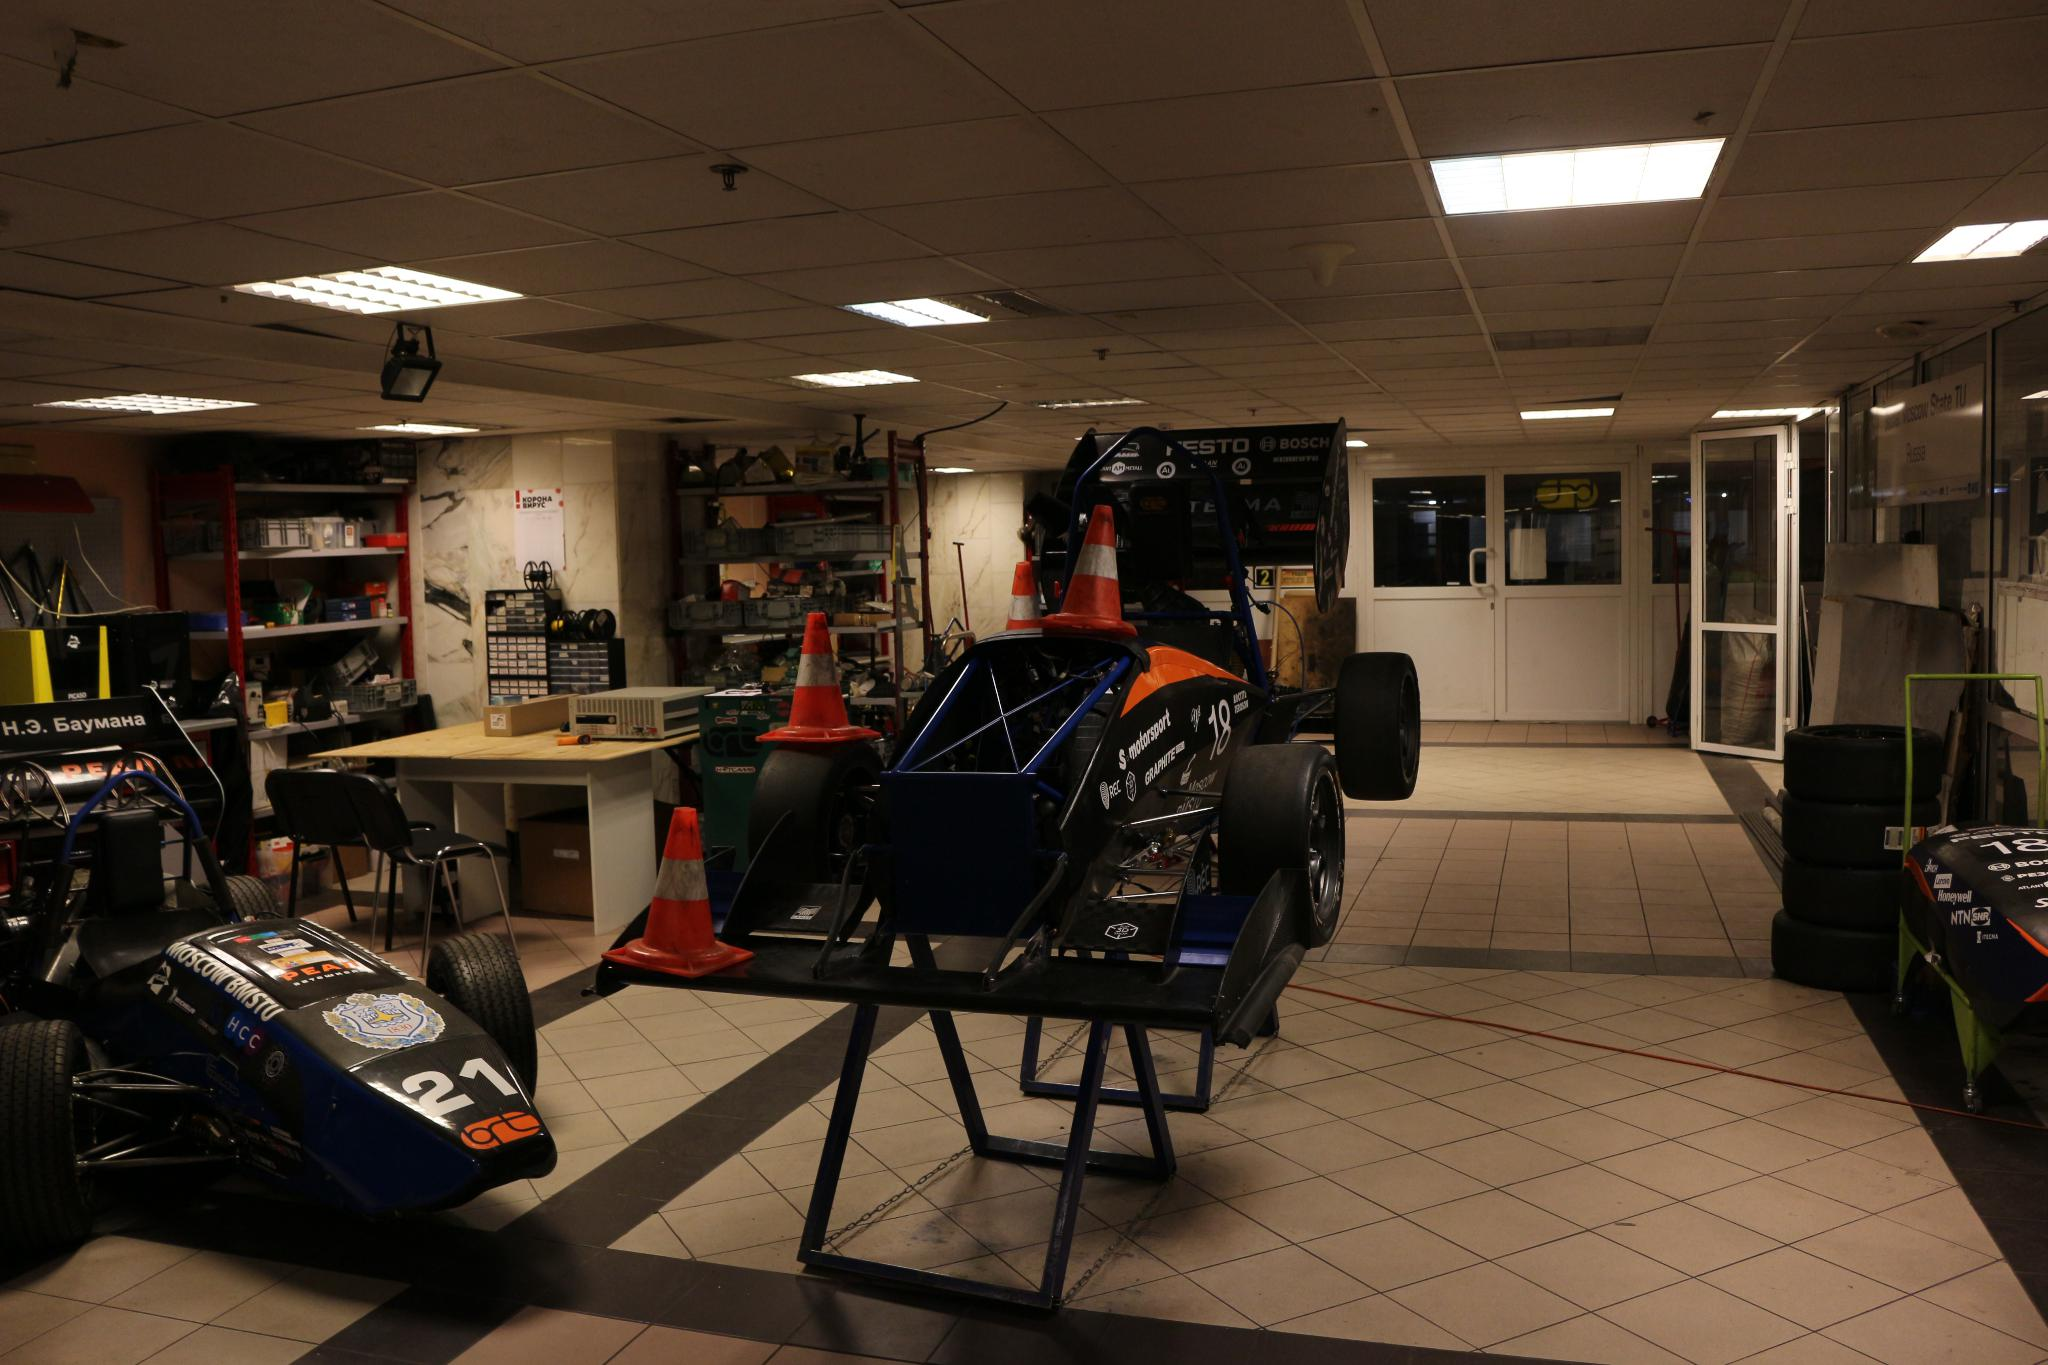Orange_Cone: (598, 803, 758, 980), (754, 603, 886, 743), (1037, 489, 1144, 646), (985, 562, 1061, 693)
